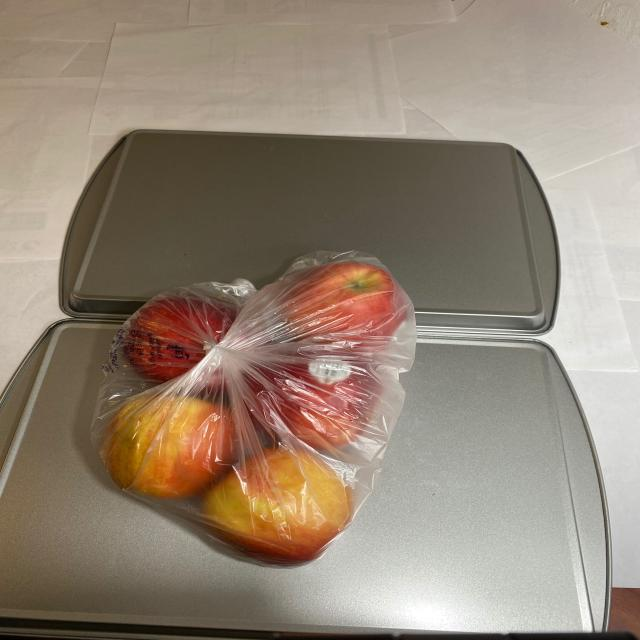apple: (97, 259, 418, 568)
